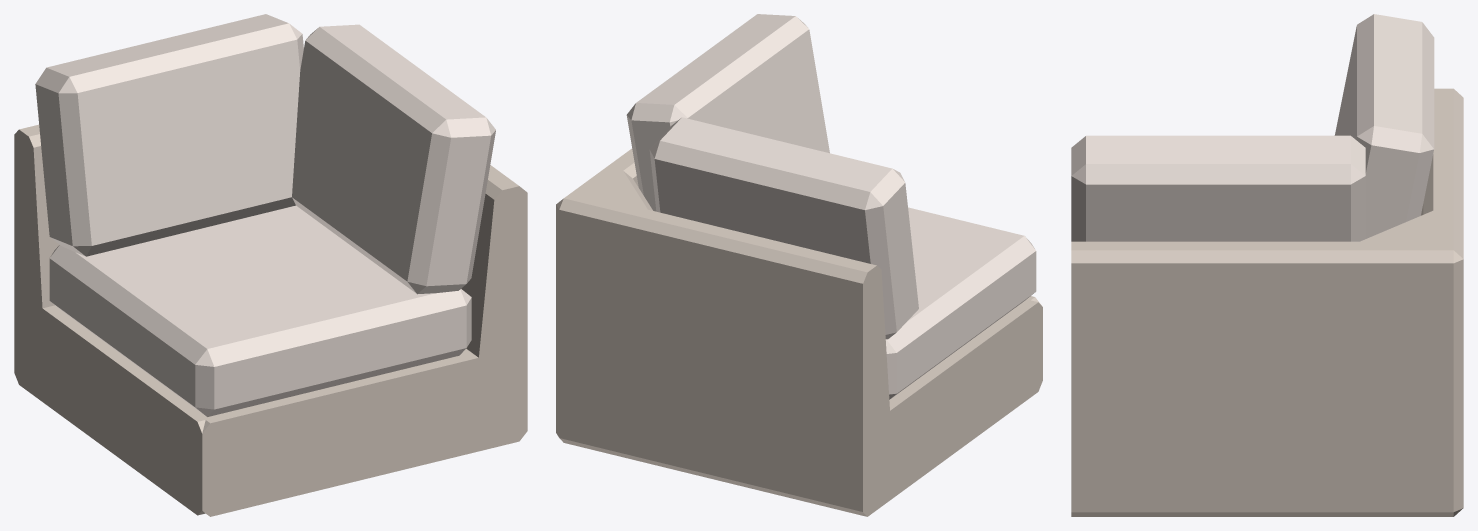
Rendered from Prop_Living_Room_Modular_Couch_Corner.fbx.
The picture shows the model from 3 angles, left to right: view 1: azimuth 30°, elevation 25°; view 2: azimuth 150°, elevation 25°; view 3: azimuth 270°, elevation 25°; orthographic projection. The views are drawn at different scales.
Parts seen in each view (by area): view 1: object4.009, object3.015, object2.019, object1.032; view 2: object4.009, object2.019, object1.032, object3.015; view 3: object4.009, object1.032, object2.019.
Part boxes in pixels (bbox=[...]): object4.009: bbox=[14, 124, 527, 516]; object3.015: bbox=[49, 205, 471, 416]; object2.019: bbox=[35, 14, 303, 256]; object1.032: bbox=[292, 24, 495, 294]; object4.009: bbox=[556, 148, 1042, 516]; object2.019: bbox=[649, 117, 918, 339]; object1.032: bbox=[626, 14, 829, 211]; object3.015: bbox=[885, 207, 1036, 399]; object4.009: bbox=[1071, 88, 1463, 516]; object1.032: bbox=[1071, 135, 1365, 241]; object2.019: bbox=[1334, 14, 1434, 238].
Bounding box in the file's own units: 100 × 97.77 × 100.
